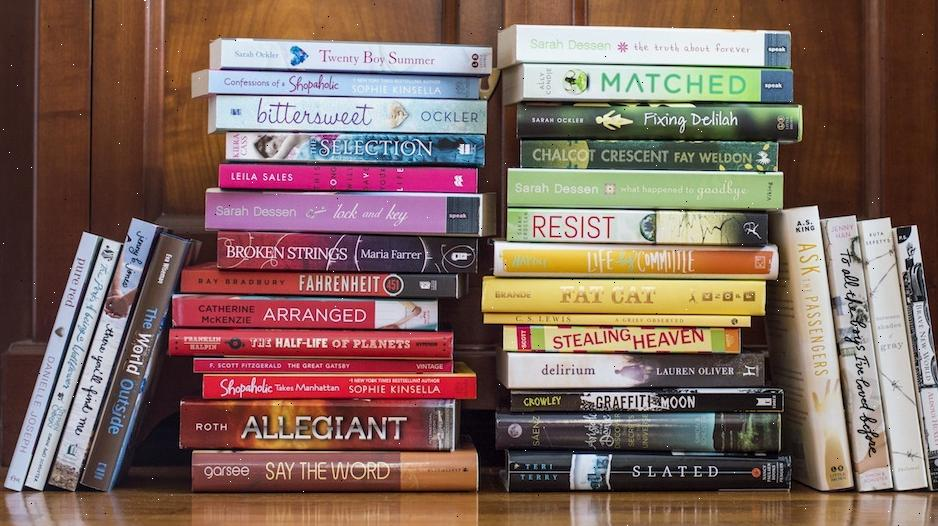book: (80, 228, 199, 491), (184, 395, 464, 446), (497, 23, 792, 68), (207, 190, 483, 236), (499, 409, 778, 452), (483, 273, 768, 315), (203, 231, 479, 274), (500, 448, 787, 489), (507, 168, 780, 210), (506, 66, 794, 105), (210, 95, 481, 136), (502, 347, 762, 388), (517, 102, 797, 140), (501, 207, 773, 246), (210, 37, 492, 74), (492, 243, 772, 280), (191, 364, 469, 401), (223, 131, 486, 168), (177, 293, 453, 328), (518, 138, 784, 172), (503, 383, 776, 415), (210, 71, 488, 101), (182, 271, 462, 300), (215, 164, 476, 194), (502, 322, 751, 353)
